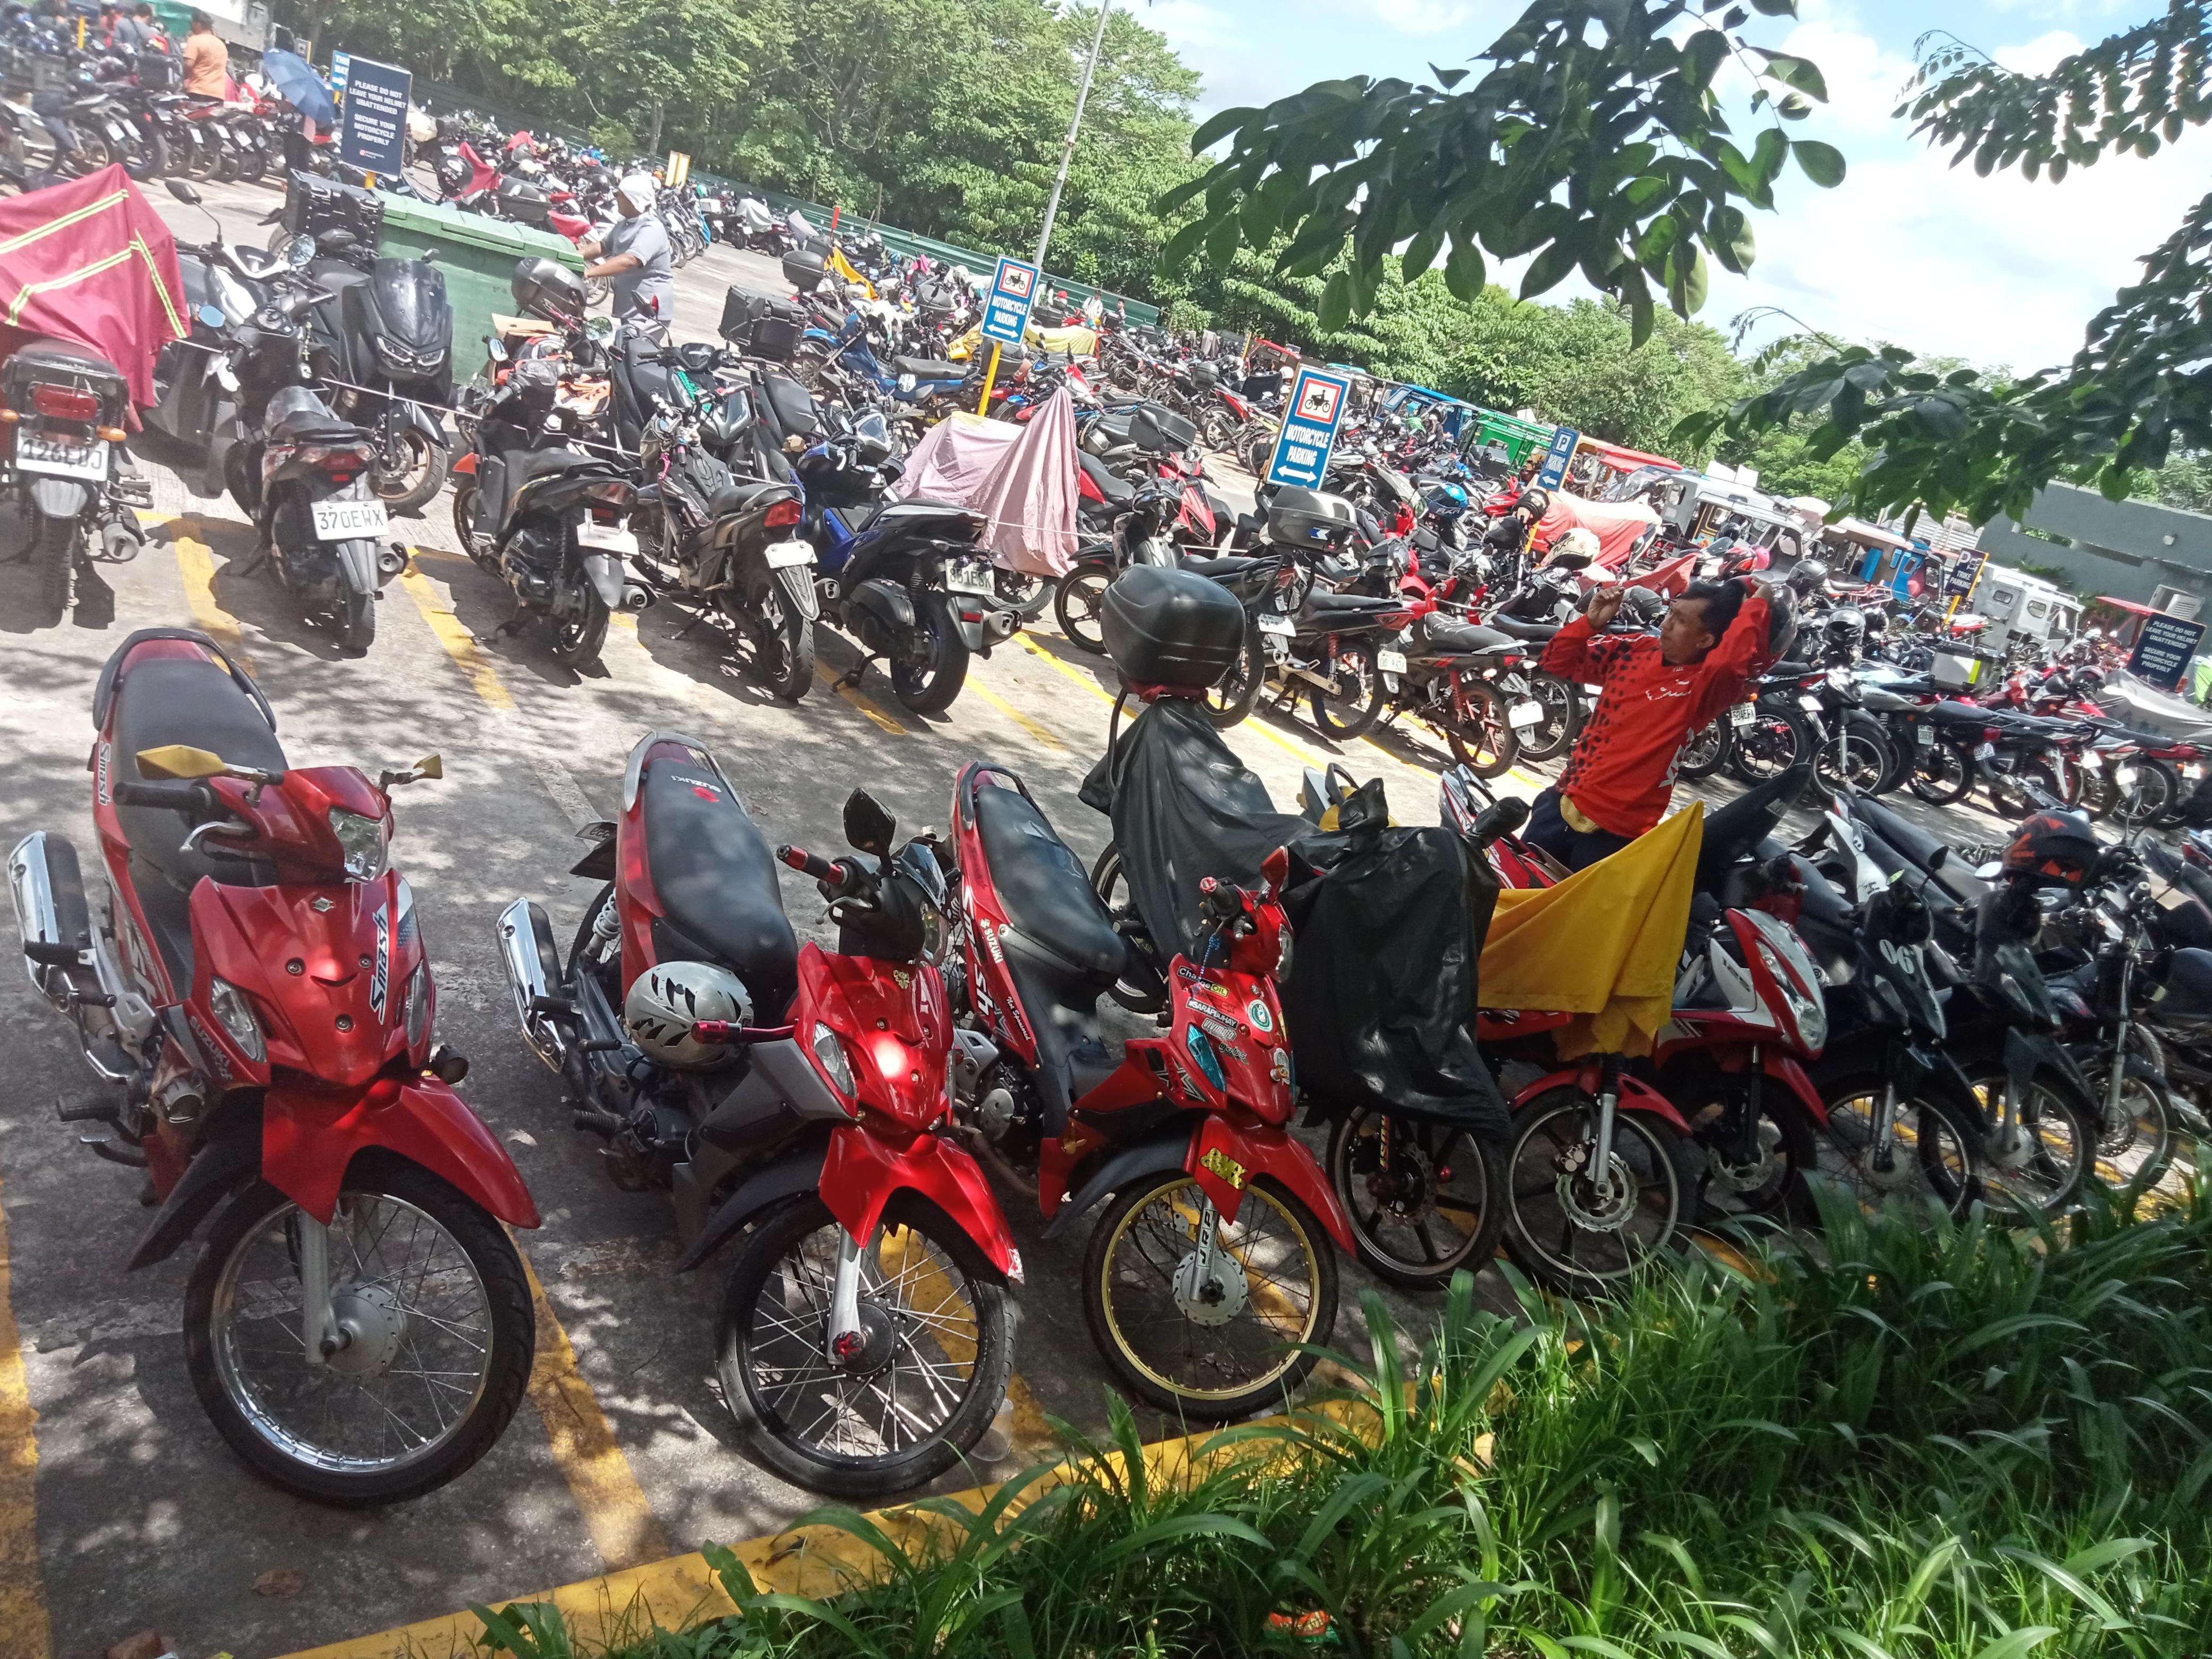occupied: (425, 1082, 1123, 1633), (0, 1127, 716, 1659), (160, 514, 517, 709), (376, 542, 721, 727), (702, 589, 1019, 732)
